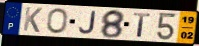5: (156, 12, 178, 41)
8: (100, 9, 126, 40)
J: (78, 11, 97, 36)
K: (22, 6, 44, 34)
O: (46, 7, 69, 35)
T: (132, 12, 152, 38)
